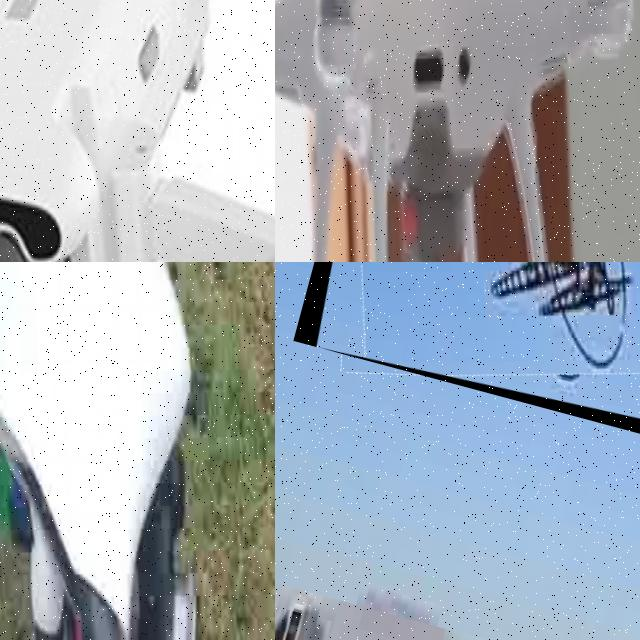0: (0, 262, 275, 640), (293, 262, 640, 433)
drone: (275, 0, 640, 262), (0, 0, 275, 262)
